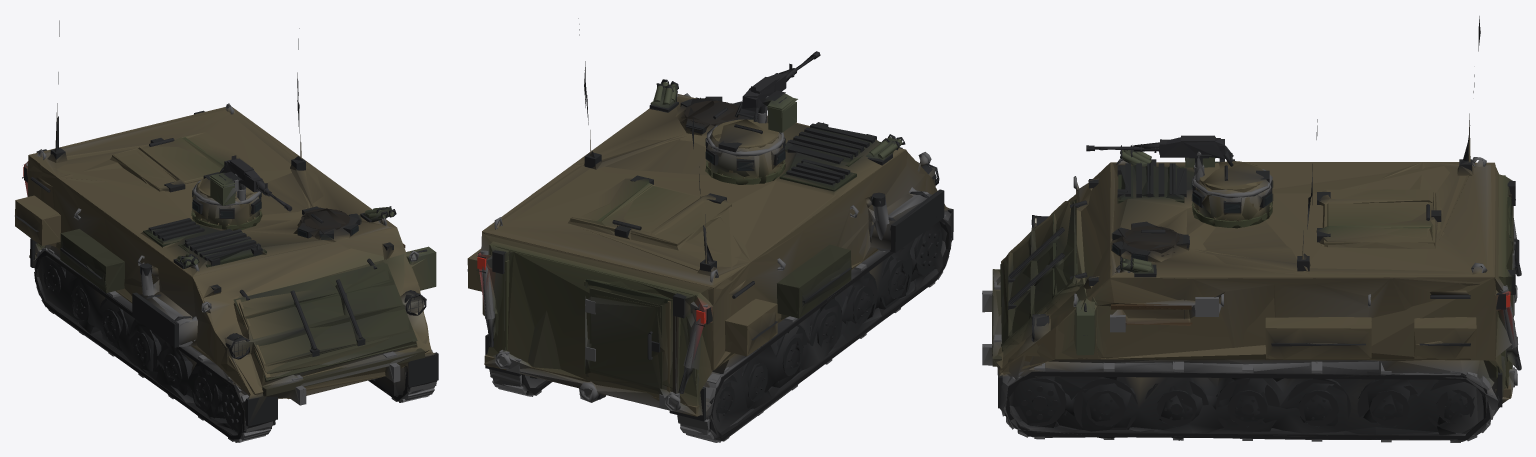
The picture shows the model from 3 angles, left to right: view 1: azimuth 30°, elevation 25°; view 2: azimuth 150°, elevation 25°; view 3: azimuth 270°, elevation 25°; orthographic projection. The views are drawn at different scales.
Visible parts, largest first — view 1: L1_05_hull_opaque, L2_08_hull_opaque, L0_01_hull_opaque, L1_07_turret_opaque, L0_03_turret_opaque, L2_09_turret_opaque; view 2: L1_05_hull_opaque, L2_08_hull_opaque, L0_01_hull_opaque, L1_07_turret_opaque, L0_03_turret_opaque, L2_09_turret_opaque; view 3: L1_05_hull_opaque, L2_08_hull_opaque, L0_01_hull_opaque, L1_07_turret_opaque, L0_03_turret_opaque, L2_09_turret_opaque.
Boxes of the visible parts, left/top/right/bottom form: L1_05_hull_opaque: left=24, top=22, right=438, bottom=442; L2_08_hull_opaque: left=29, top=20, right=432, bottom=438; L0_01_hull_opaque: left=22, top=103, right=438, bottom=442; L1_07_turret_opaque: left=15, top=174, right=394, bottom=292; L0_03_turret_opaque: left=15, top=172, right=396, bottom=292; L2_09_turret_opaque: left=15, top=182, right=259, bottom=292; L1_05_hull_opaque: left=478, top=18, right=952, bottom=442; L2_08_hull_opaque: left=481, top=61, right=951, bottom=437; L0_01_hull_opaque: left=476, top=63, right=953, bottom=442; L1_07_turret_opaque: left=467, top=54, right=901, bottom=356; L0_03_turret_opaque: left=467, top=51, right=905, bottom=351; L2_09_turret_opaque: left=707, top=124, right=850, bottom=355; L1_05_hull_opaque: left=982, top=20, right=1521, bottom=441; L2_08_hull_opaque: left=992, top=16, right=1516, bottom=440; L0_01_hull_opaque: left=982, top=135, right=1521, bottom=442; L1_07_turret_opaque: left=1088, top=146, right=1476, bottom=358; L0_03_turret_opaque: left=1086, top=145, right=1476, bottom=358; L2_09_turret_opaque: left=1197, top=165, right=1474, bottom=358.
Bounding box in the file's own units: 3.37 × 3.62 × 5.32.
